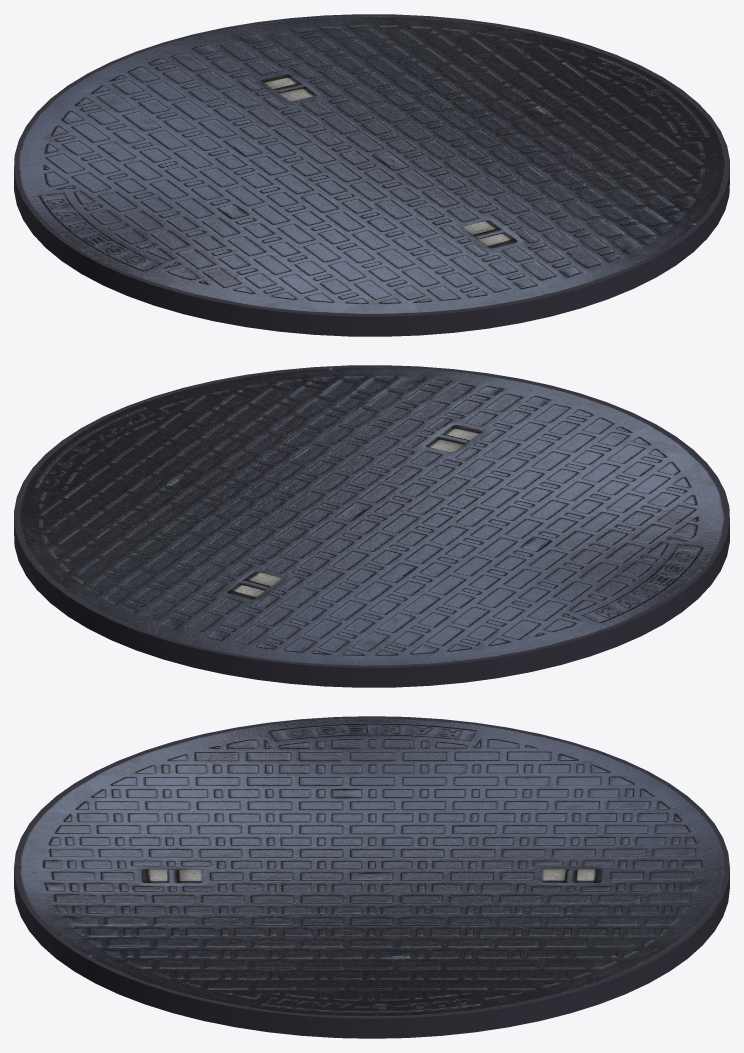
Rendered from Preset_ManholeCover.fbx.
3 views of the same model, one above another, from view 1: azimuth 30°, elevation 25°; view 2: azimuth 150°, elevation 25°; view 3: azimuth 270°, elevation 25° (orthographic).
Parts seen in each view (by area): view 1: body; view 2: body; view 3: body.
Part boxes in pixels (bbox=[...]): body: bbox=[14, 14, 729, 336]; body: bbox=[14, 365, 729, 687]; body: bbox=[14, 716, 729, 1038].
Bounding box in the file's own units: 65 × 65 × 2.
1 material, 1 textured.
